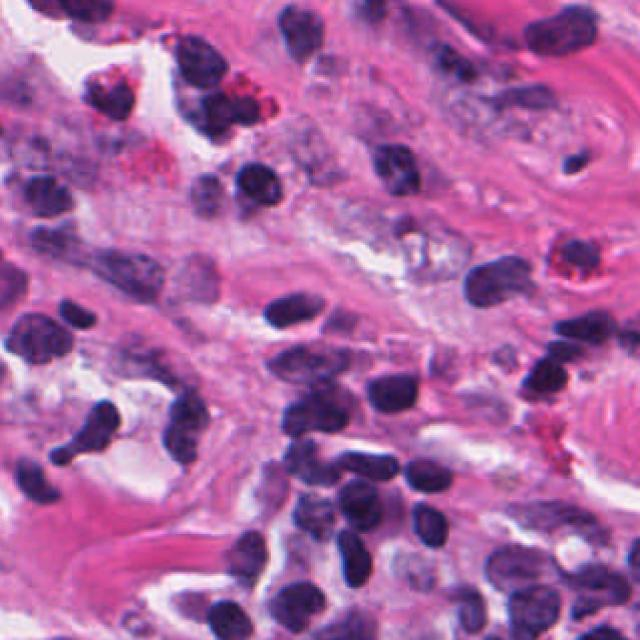apoptotic_body: (88, 69, 138, 123)
fibroblast: (82, 245, 161, 300), (518, 0, 596, 51), (158, 375, 203, 461), (56, 397, 118, 457), (459, 252, 528, 305), (367, 137, 431, 194), (2, 309, 70, 362), (419, 37, 479, 88), (112, 336, 175, 384), (273, 4, 323, 60), (492, 73, 560, 113), (24, 216, 80, 263), (8, 457, 56, 503)
lymphocyte: (279, 391, 347, 450), (319, 530, 379, 589), (564, 558, 632, 609), (233, 155, 301, 203), (273, 578, 329, 636), (197, 587, 253, 640), (405, 450, 465, 497), (283, 443, 343, 490), (273, 338, 345, 375), (550, 309, 618, 346), (506, 587, 558, 635), (267, 293, 327, 333), (369, 364, 421, 408), (335, 485, 387, 528), (341, 446, 401, 483), (411, 501, 451, 549), (28, 170, 76, 210), (283, 494, 335, 530), (516, 364, 568, 393)
unlabeled: (496, 496, 596, 536), (486, 539, 550, 587), (171, 33, 225, 84), (60, 293, 104, 325)
